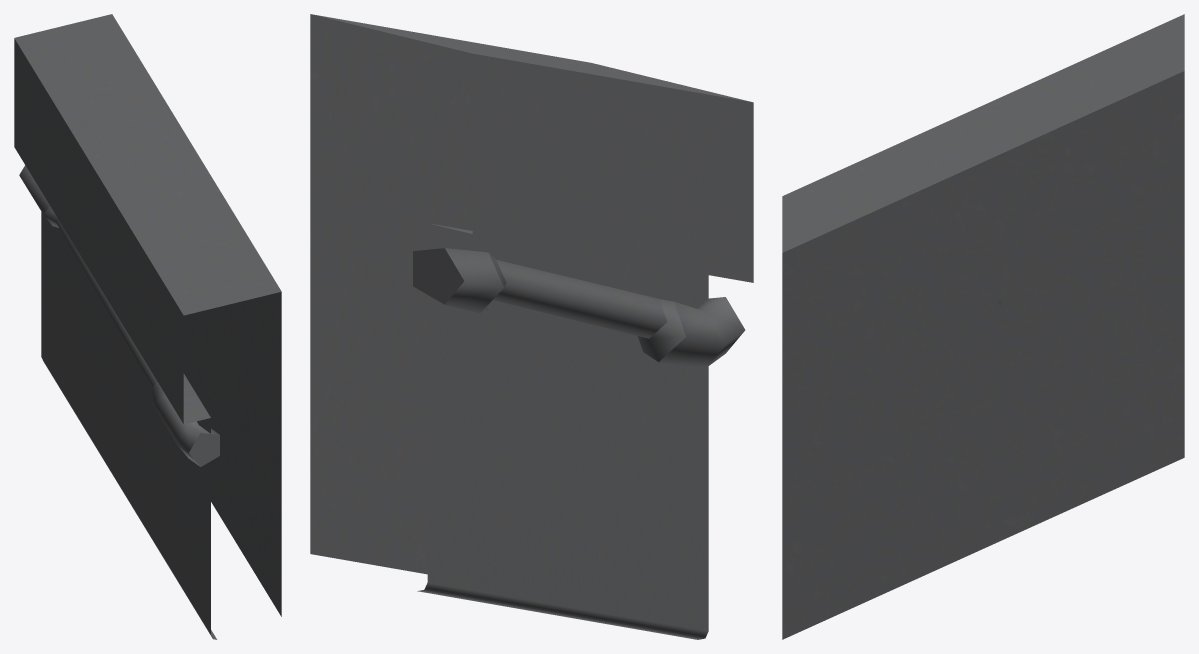
Rendered from SM_walkway_trim_diagonal_a_100.fbx.
The picture shows the model from 3 angles, left to right: view 1: azimuth 30°, elevation 25°; view 2: azimuth 150°, elevation 25°; view 3: azimuth 270°, elevation 25°; orthographic projection. The views are drawn at different scales.
Visible parts, largest first — view 1: roomBlocks_smalltrim_b4; view 2: roomBlocks_smalltrim_b4; view 3: roomBlocks_smalltrim_b4.
Boxes of the visible parts, x1=… form: roomBlocks_smalltrim_b4: x1=14, y1=14, x2=281, y2=639; roomBlocks_smalltrim_b4: x1=310, y1=14, x2=753, y2=639; roomBlocks_smalltrim_b4: x1=782, y1=14, x2=1184, y2=639.
Size of the model in its own units: 0.3338 by 1.58 by 1.
